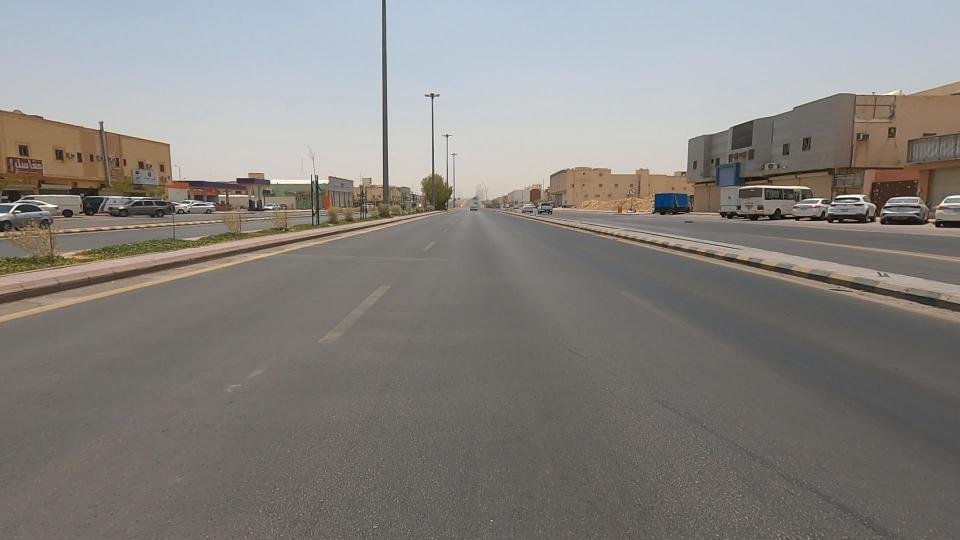SAND_ON_ROAD: (548, 181, 656, 226)
